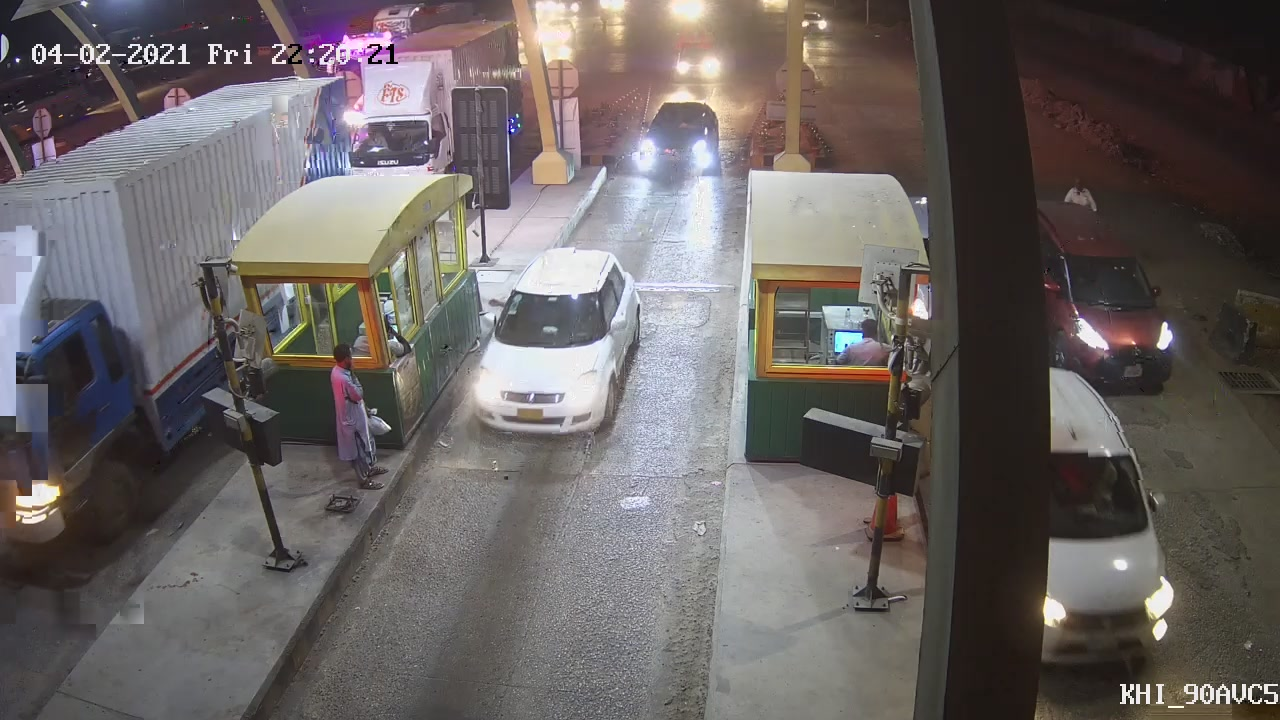F1: (466, 249, 638, 445)
